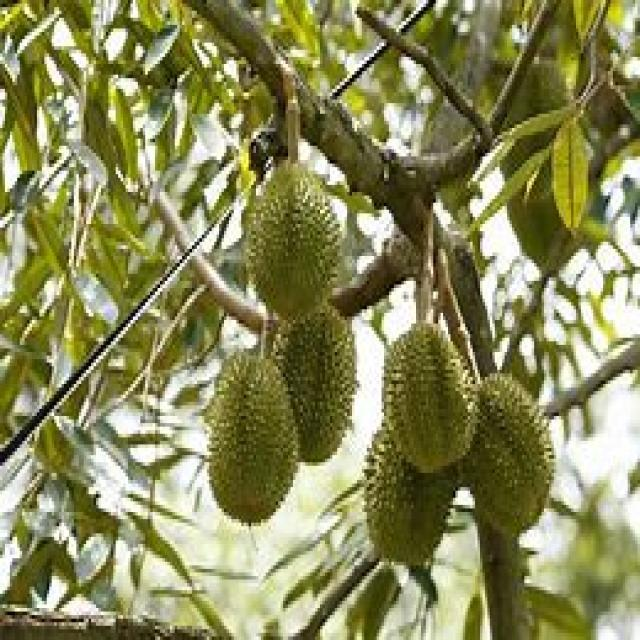immature: (208, 346, 298, 526), (246, 160, 342, 326), (462, 372, 554, 538), (380, 320, 478, 474), (270, 301, 359, 469), (364, 426, 458, 566)
